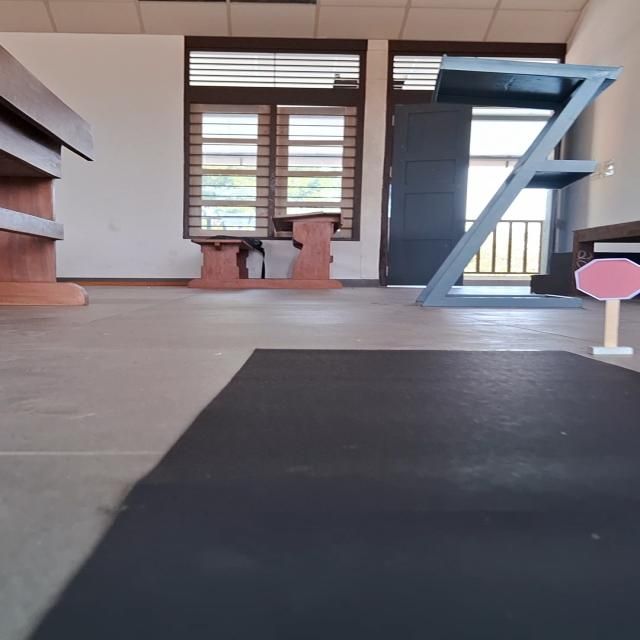Stop: (574, 257, 640, 303)
